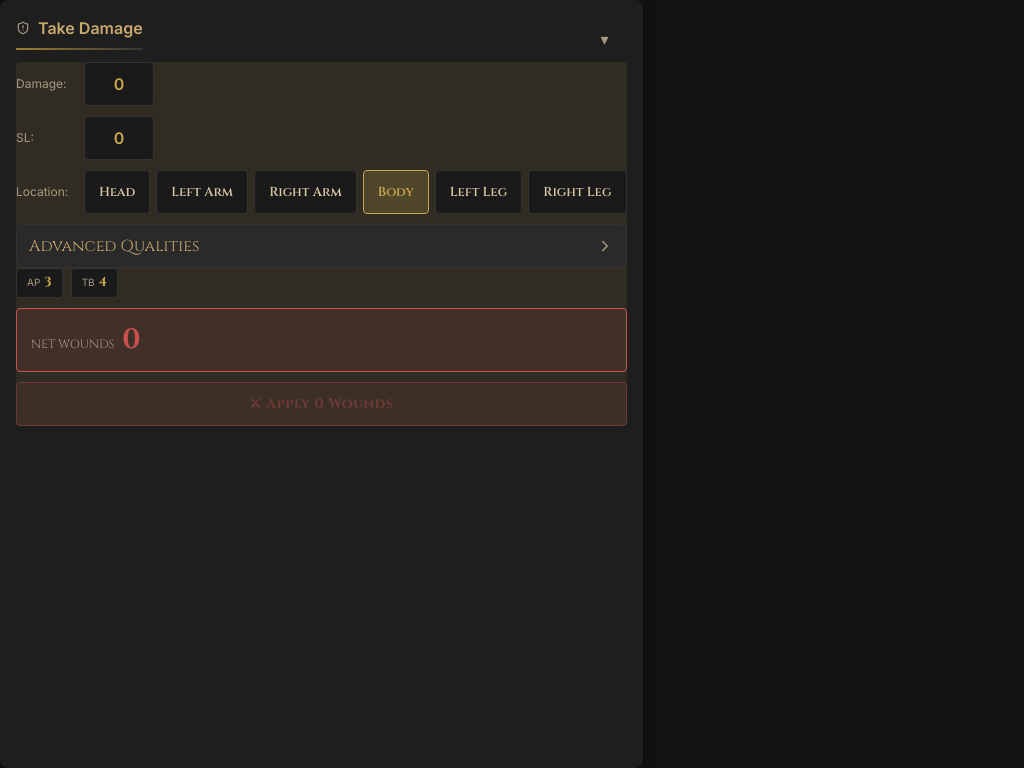
Test: TakeDamagePanel — Down alert › shows alert when wCur is already 0 and wounds are applied
The image size is (1024, 768).
Click the radio button labelled "Left Leg" at (478, 192), box [435,170,522,214]
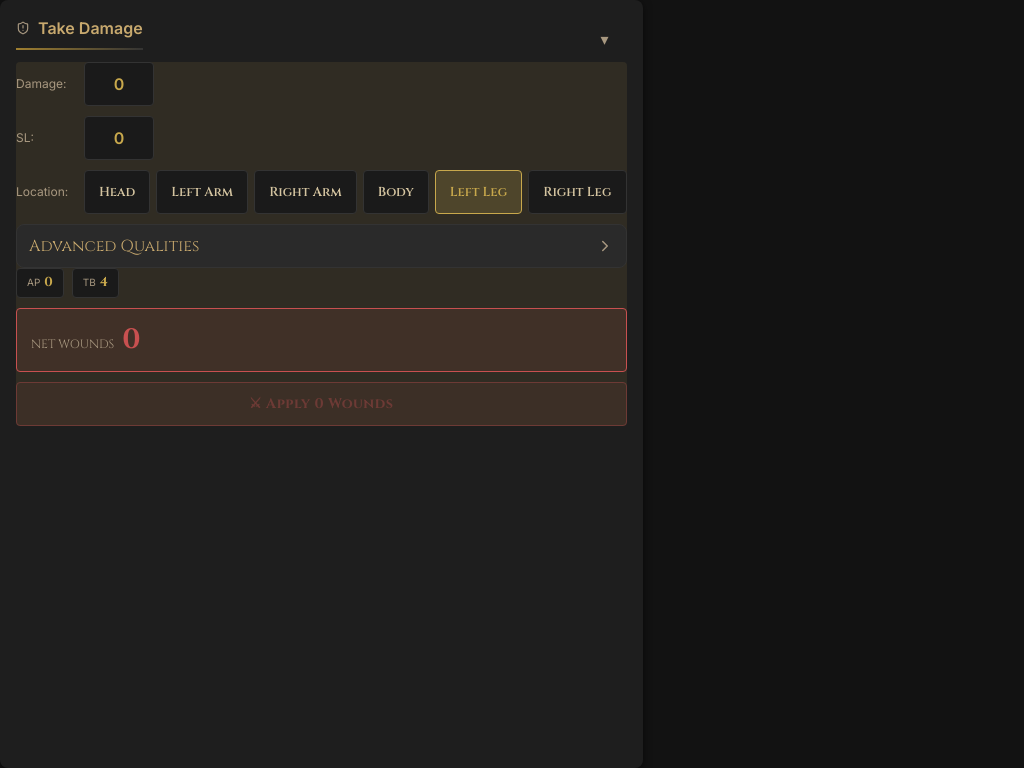
Replace the text in the number field named "Incoming damage" with "6" at (119, 84), box [84,62,154,106]
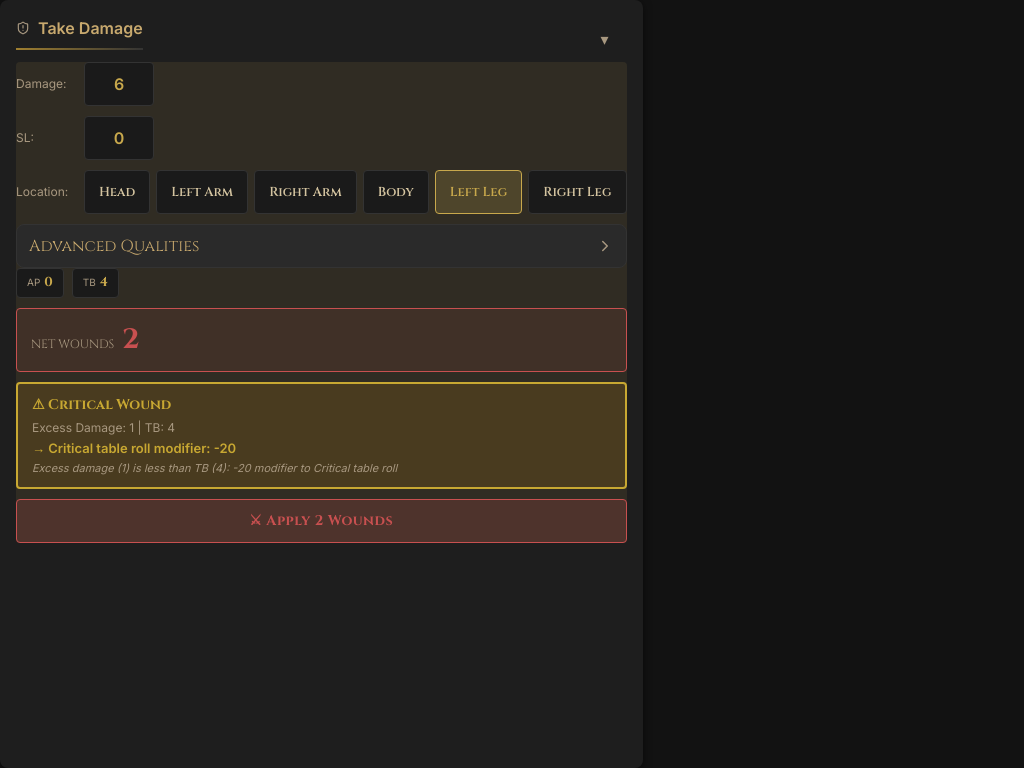
Click the button with aria-label "Apply wounds" at (321, 520), box [16,498,626,542]
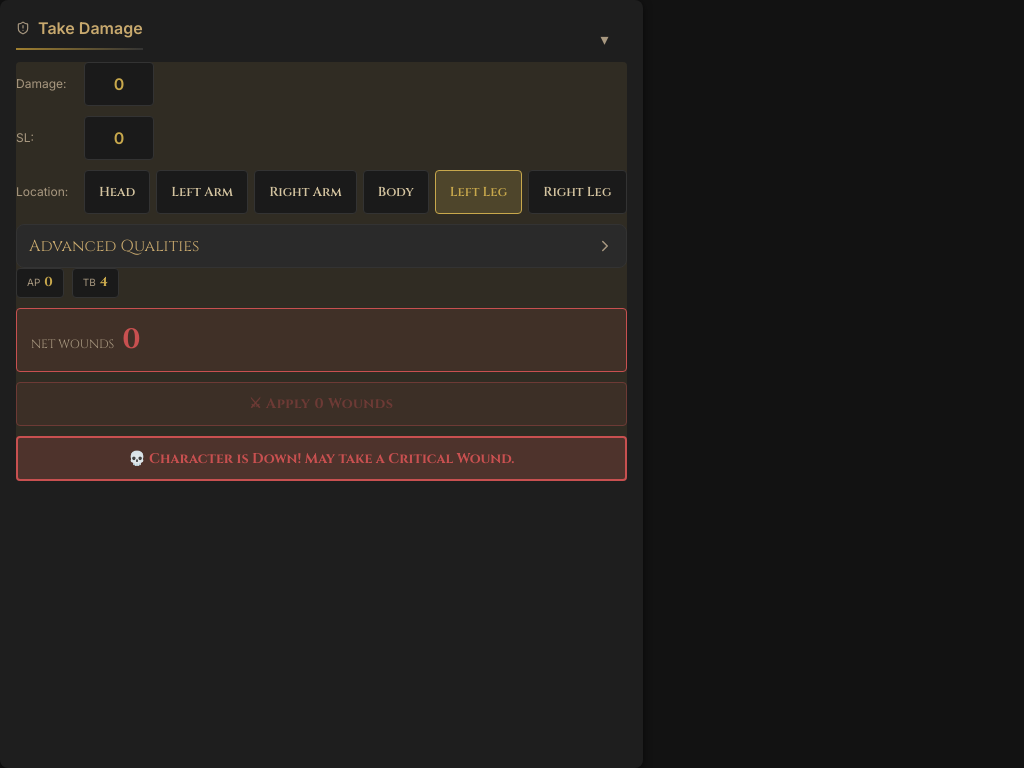
Check: the message "💀 Character is Down! May take a Critical Wound." is shown, box [16,436,626,480]
